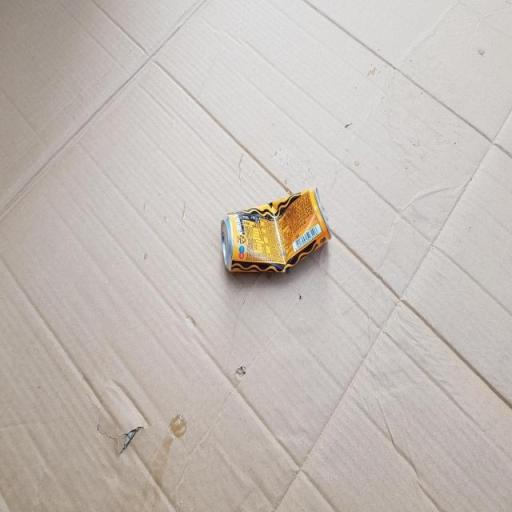metal: (193, 162, 358, 290)
